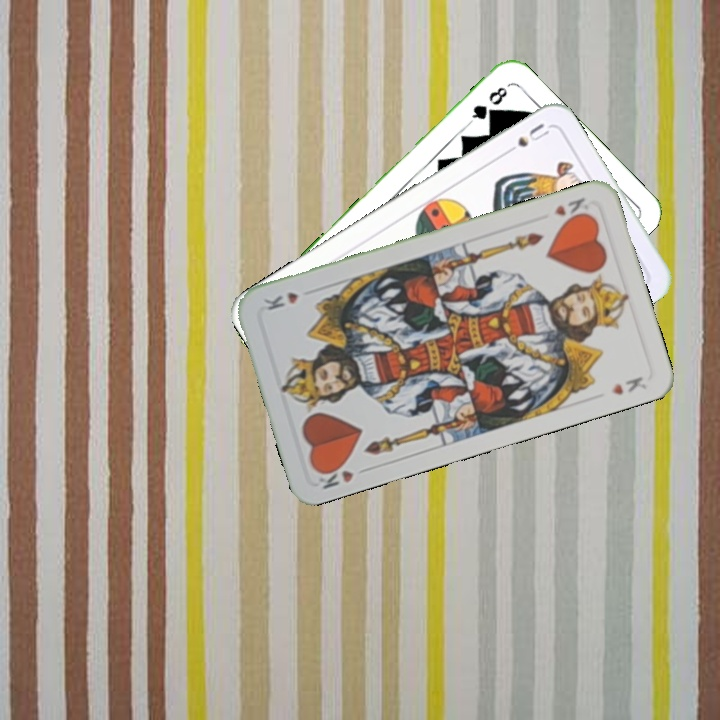G8: (464, 82, 510, 127)
HK: (313, 458, 372, 492), (550, 193, 592, 225)
SU: (499, 119, 552, 159)
